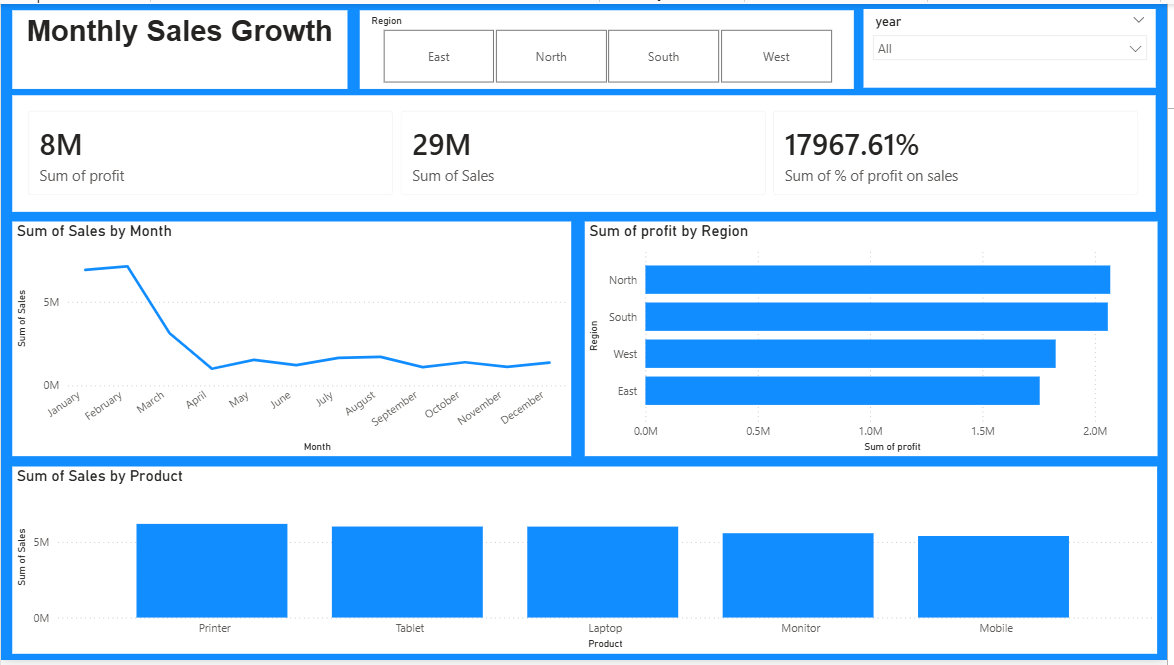

This screenshot's page, from the dashboard's own definition file:
{"tool":"powerbi","page":{"name":"Page 1","canvas":[1280,720],"ordinal":0},"visuals":[{"type":"cardVisual","fields":{"Data":["Sum(saledb sales_data.profit)","Sum(saledb sales_data.Sales)","Sum(saledb sales_data.% of profit on sales)"]},"box":[12.3,100.2,1255.6,127.6],"z":0},{"type":"lineChart","fields":{"Y":["Sum(saledb sales_data.Sales)"],"Category":["saledb sales_data.Order_Date.Variation.Date Hierarchy.Month"]},"box":[12.3,238.8,613.4,258],"z":1000},{"type":"barChart","fields":{"Category":["saledb sales_data.Region"],"Y":["Sum(saledb sales_data.profit)"]},"box":[640.8,238.8,628.5,258],"z":2000},{"type":"columnChart","fields":{"Category":["saledb sales_data.Product"],"Y":["Sum(saledb sales_data.Sales)"]},"box":[12.3,507.7,1257,205.8],"z":3000},{"type":"slicer","fields":{"Values":["saledb sales_data.Region"]},"box":[393.8,6.9,542,86.4],"z":4000},{"type":"slicer","fields":{"Values":["saledb sales_data.year"]},"box":[946.8,5.5,321.1,86.4],"z":5000},{"type":"textbox","box":[12.3,6.9,367.8,86.4],"z":6000}]}

Visuals, with their boxes in screenshot pixels (x1, y1, x2, y2), scaled from the page's 1280x720 canvas onto the 1174x665 screenshot:
cardVisual - Sum(saledb sales_data.profit) x Sum(saledb sales_data.Sales): BBox(11, 93, 1163, 210)
lineChart - Sum(saledb sales_data.Sales) x saledb sales_data.Order_Date.Variation.Date Hierarchy.Month: BBox(11, 221, 574, 459)
barChart - saledb sales_data.Region x Sum(saledb sales_data.profit): BBox(588, 221, 1164, 459)
columnChart - saledb sales_data.Product x Sum(saledb sales_data.Sales): BBox(11, 469, 1164, 659)
slicer - saledb sales_data.Region: BBox(361, 6, 858, 86)
slicer - saledb sales_data.year: BBox(868, 5, 1163, 85)
textbox: BBox(11, 6, 349, 86)
